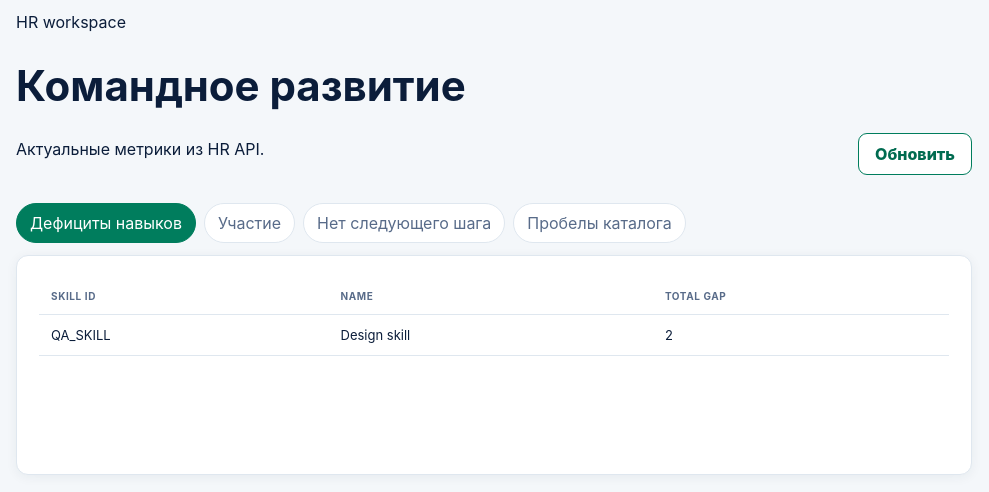
Test: HR participation API contract › displays per-event participation when the shared items array is empty
Expected: the cell "Design skill" is shown, [328,315,653,356]
Click the tab "Участие". click: (250, 223)
box: [204,203,295,243]
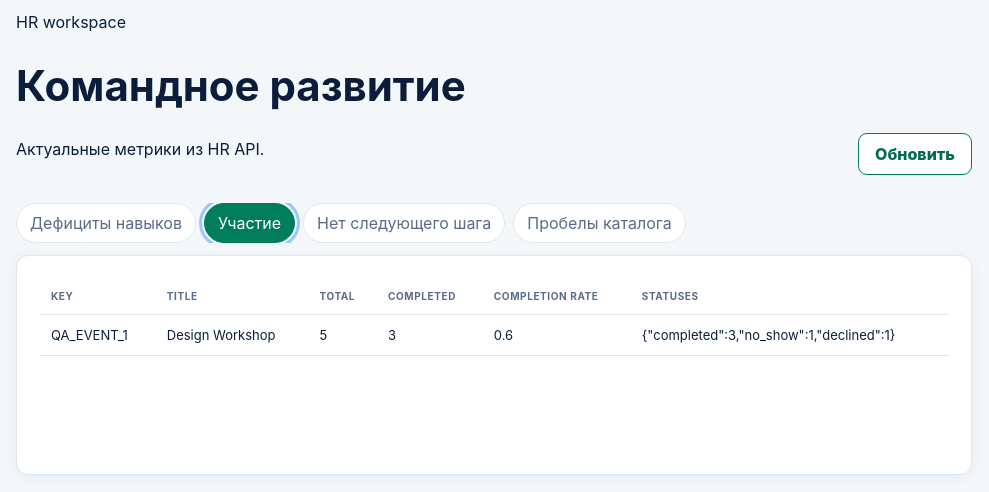
Now the cell "QA_EVENT_1" is shown, box [39,315,155,356]
Now the cell "5" is shown, box [308,315,376,356]
Now the cell "3" is shown, box [376,315,482,356]
